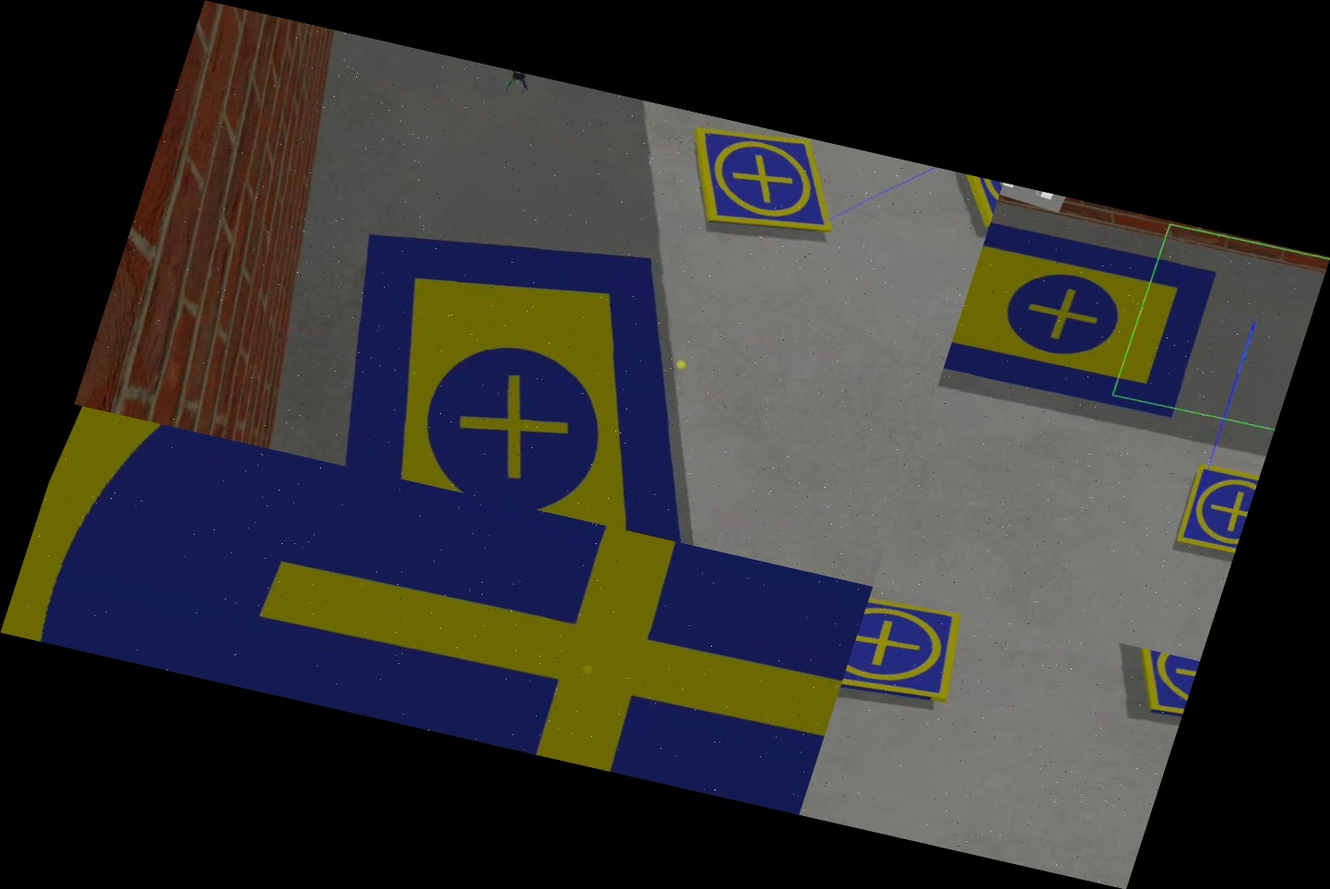large_base: (0, 404, 873, 814), (259, 167, 850, 561), (935, 199, 1243, 447)
small_base: (659, 112, 861, 257), (835, 587, 987, 730), (1160, 453, 1261, 565), (1105, 645, 1199, 726), (926, 169, 1003, 232)
